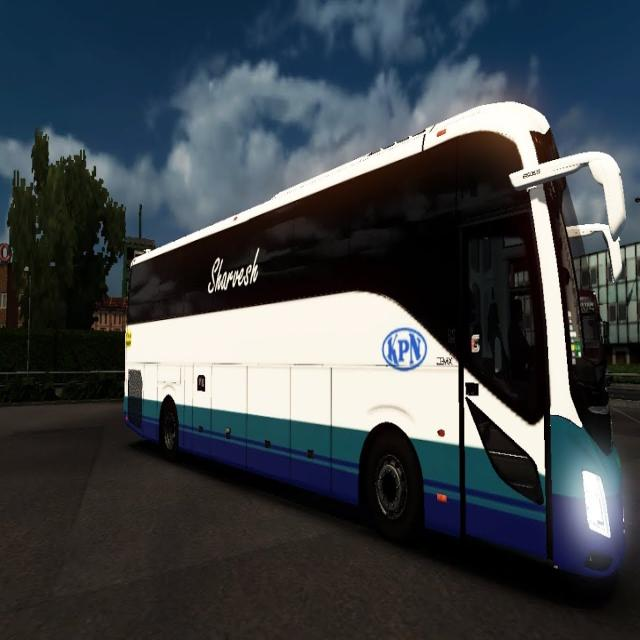bus: (124, 102, 625, 579)
